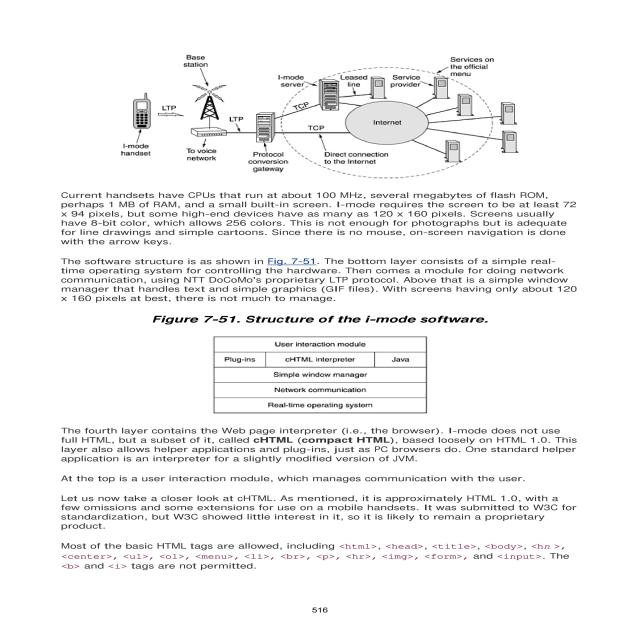diagram: (40, 45, 595, 252), (103, 308, 537, 422)
